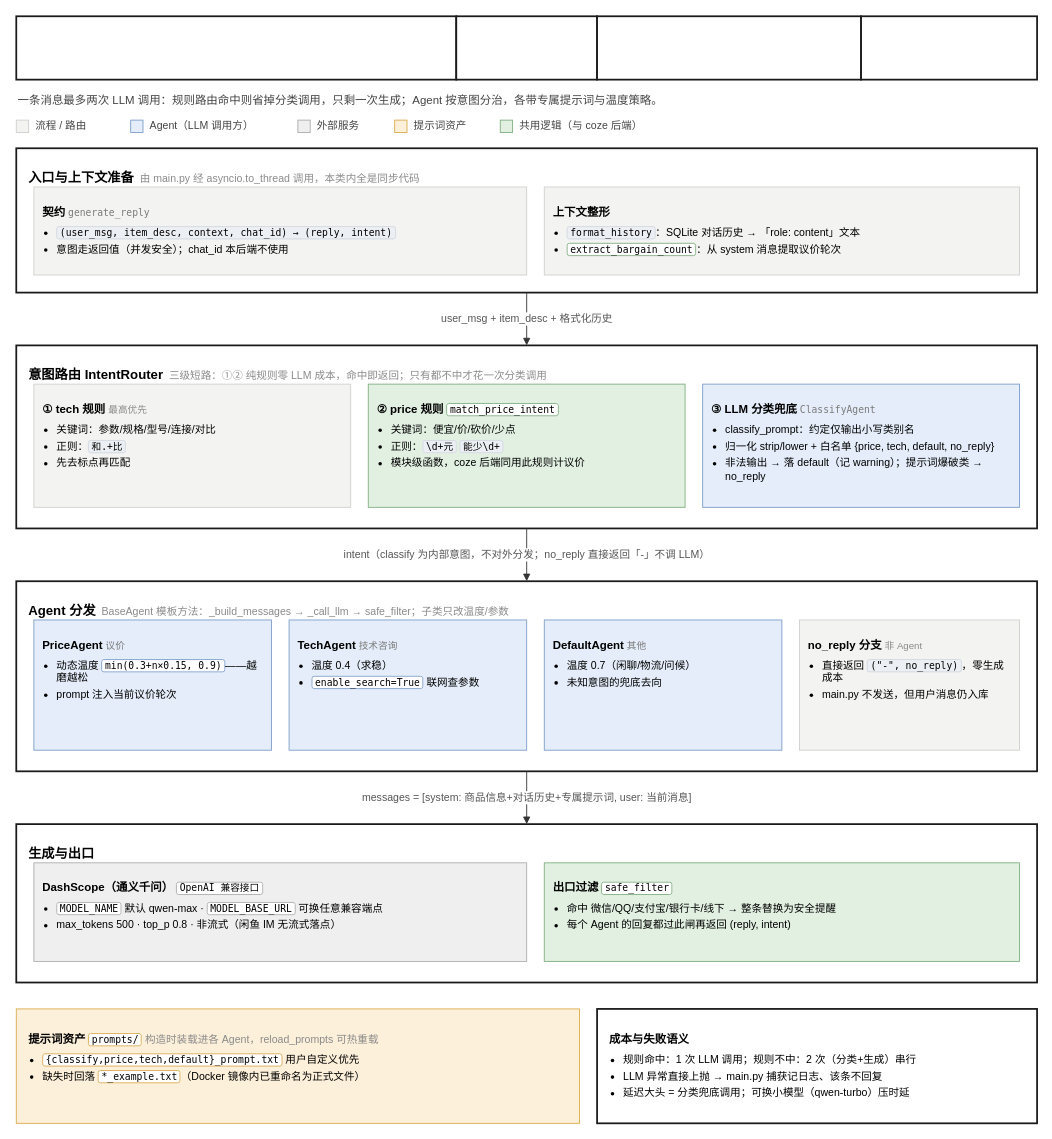
This 1052x1139 diagram has some shape labels left out. Each missing label, with the centre of its shape:
"代码 XianyuAgent.py · ~300 行" goes at point (949, 47).
"图名 XianyuReplyBot · builtin 后端内部" goes at point (236, 47).
"日期 2026-07-06" goes at point (526, 47).
"真身 repo · docs/xianyu-replybot.drawio" goes at point (729, 47).
